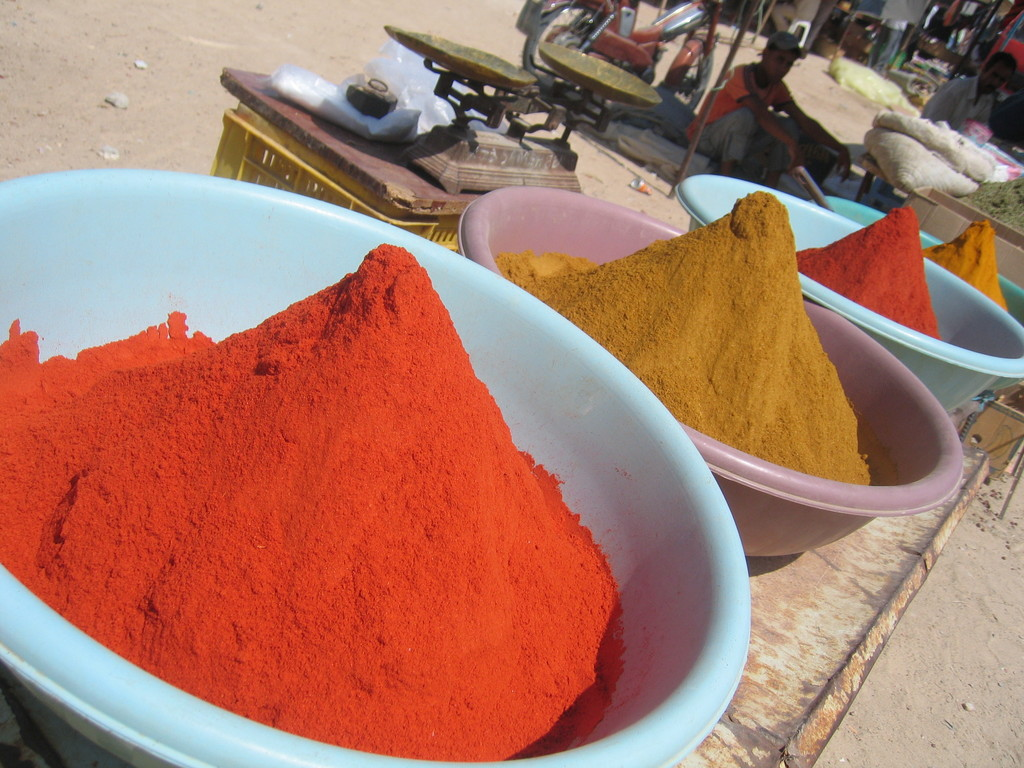person: (685, 29, 851, 188)
